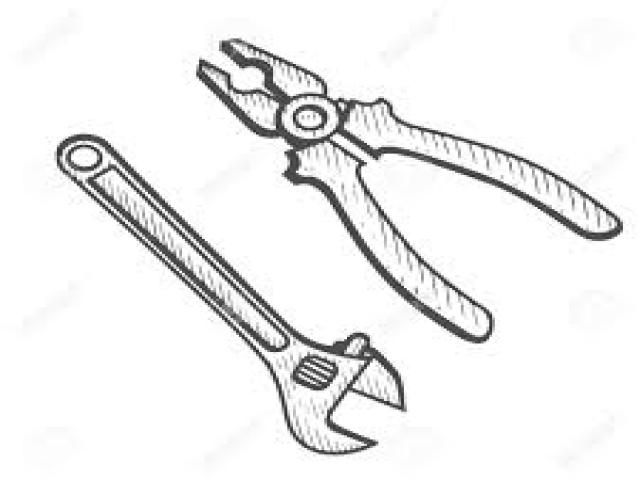Adjustable spanner: (58, 135, 405, 453)
Pliers: (199, 39, 619, 342)
